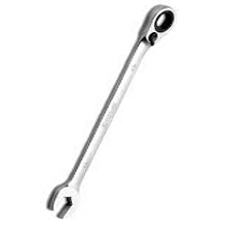Wrench: (48, 3, 175, 218)
